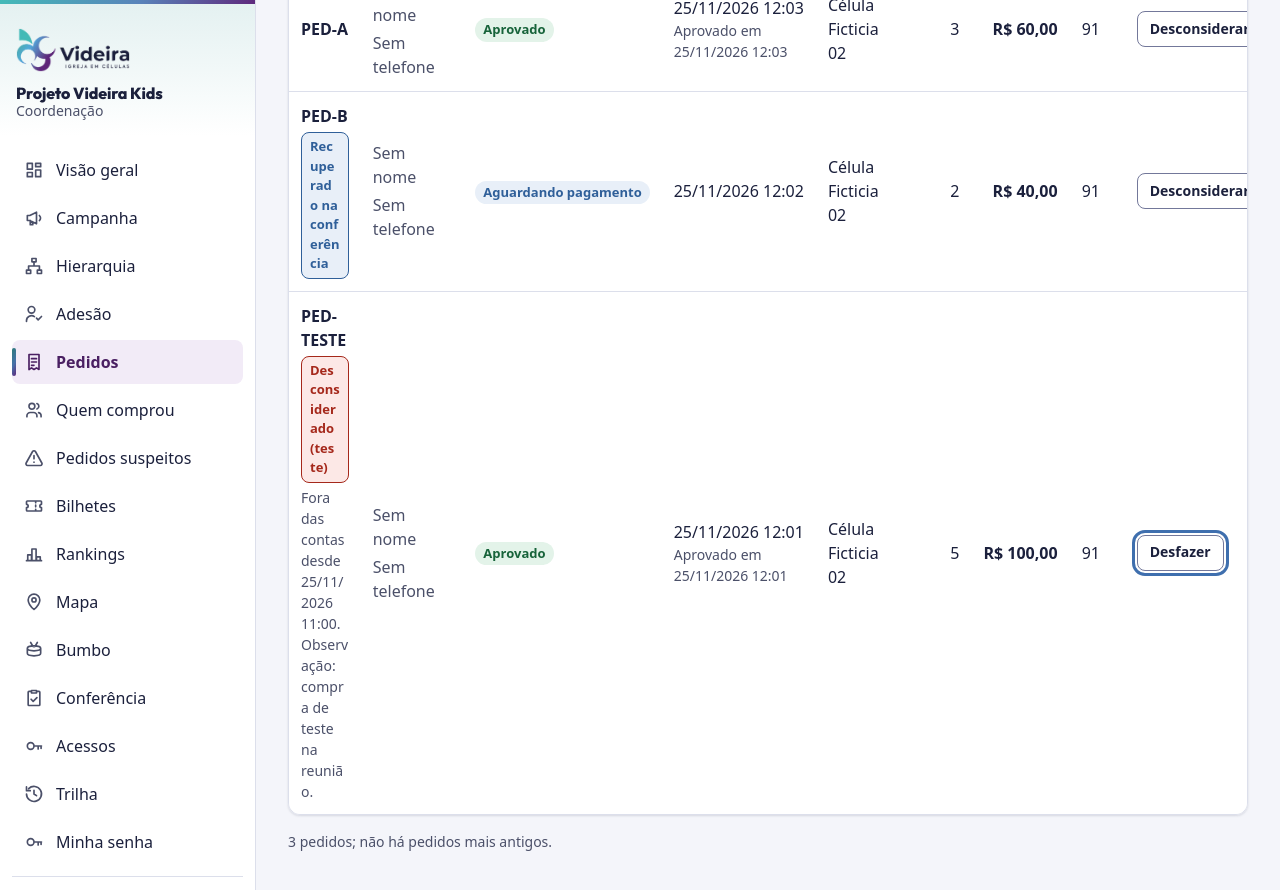
Test: CA3: desconsiderar e desfazer › outra falha (ex.: sem conexão): explica no diálogo e o foco vai para o botão da ação, para tentar de novo
The image size is (1280, 890).
(page scrolled)
What coordinates should you click on to do the following:
click the button named "Desfazer a desconsideração do pedido PED-TESTE"
I would click on:
 (1180, 552)
Its box is [1137, 534, 1224, 570].
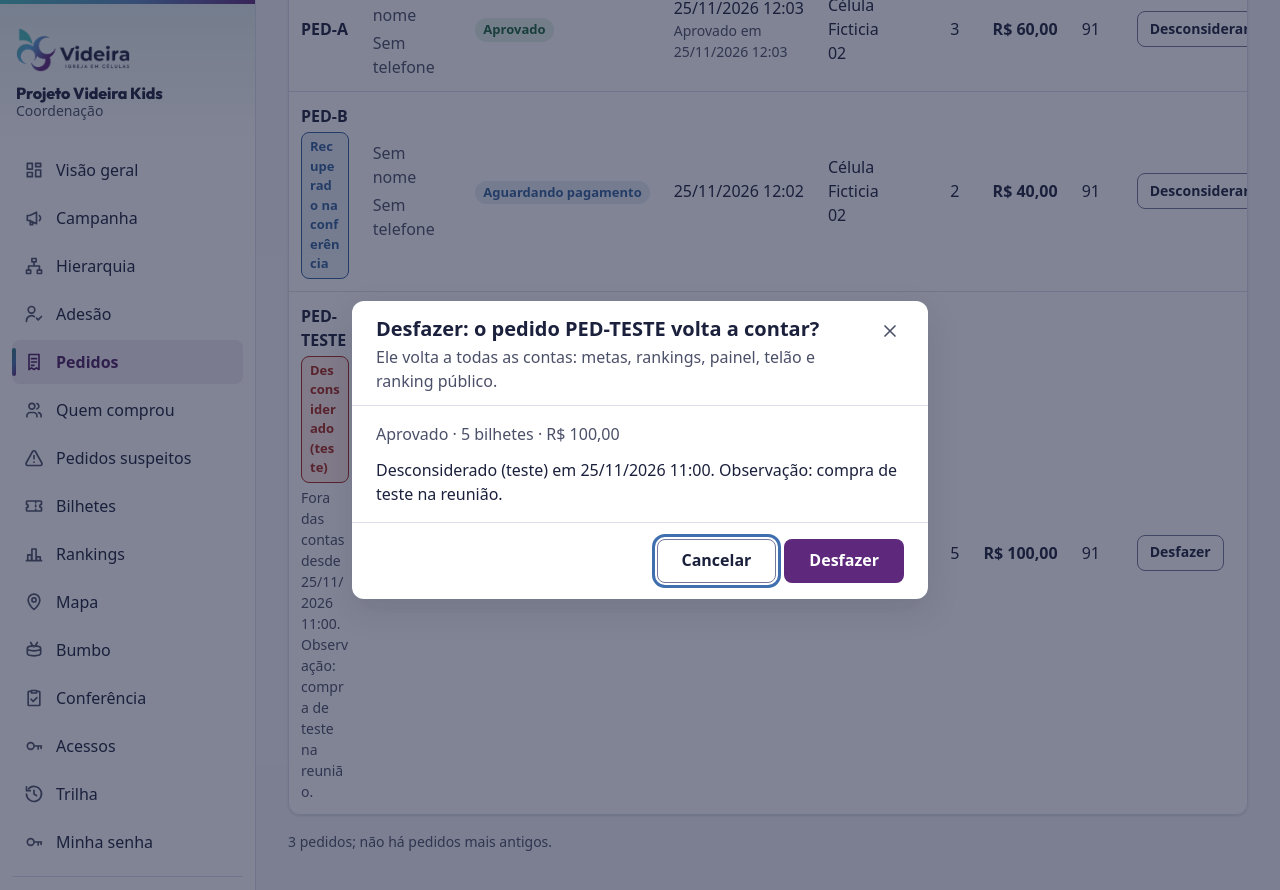
What coordinates should you click on to do the following:
click the button "Desfazer"
I would click on:
 (844, 561)
Its box is [784, 539, 904, 583].
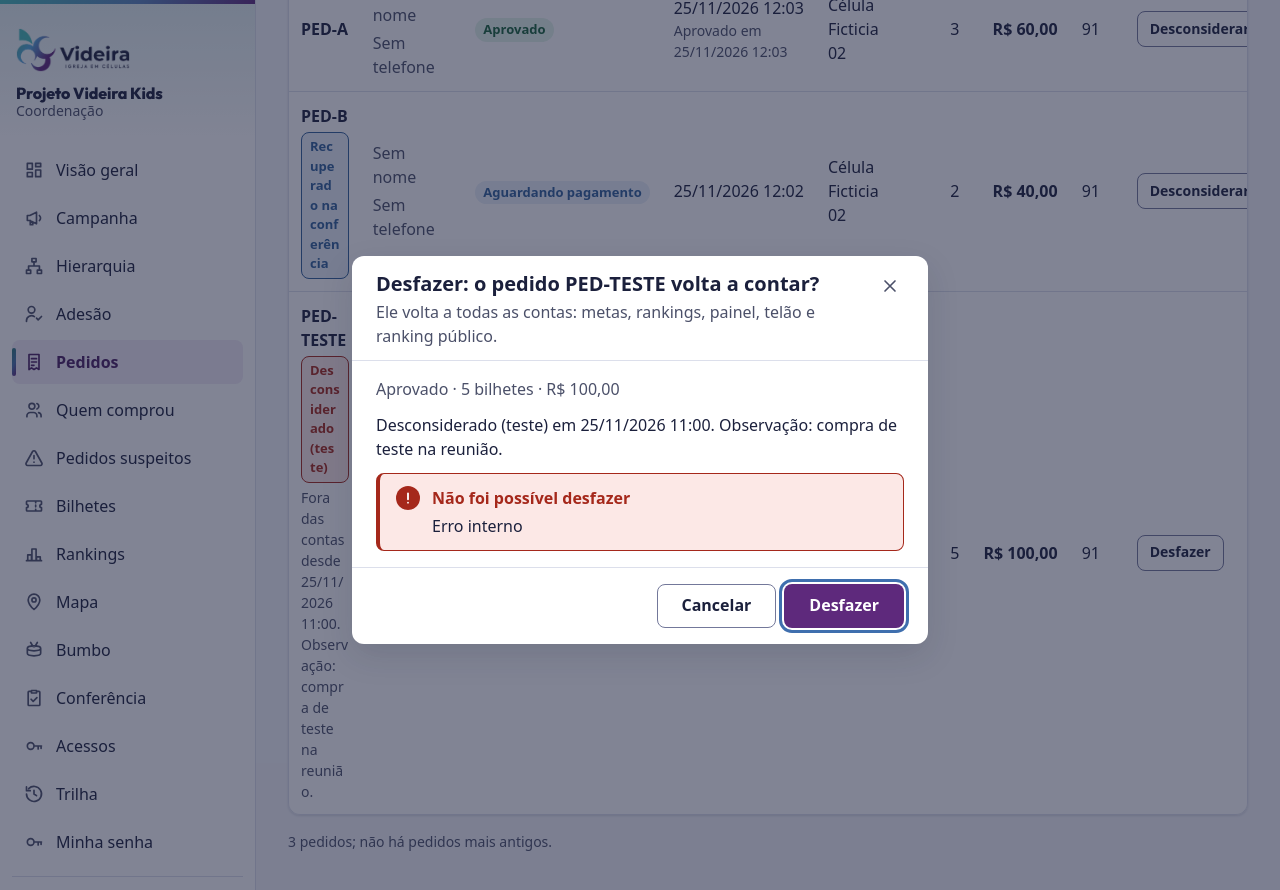
Expected: the text "Não foi possível desfazer" is shown, [432, 487, 630, 509]
What coordinates should you click on to do the following:
click the button "Desfazer"
I would click on:
 (844, 606)
Its box is [784, 584, 904, 628].
(page scrolled)
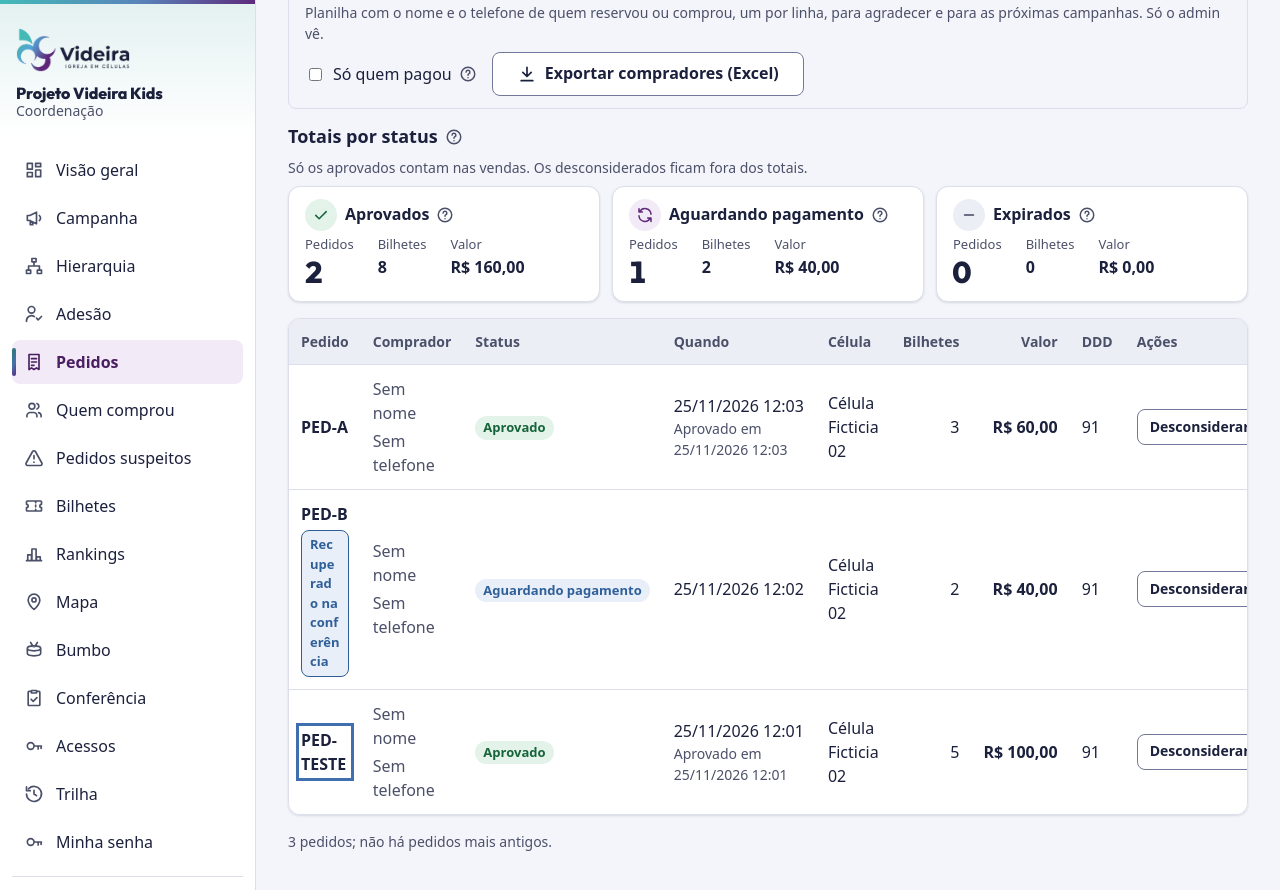
Expected: the dialog is gone
